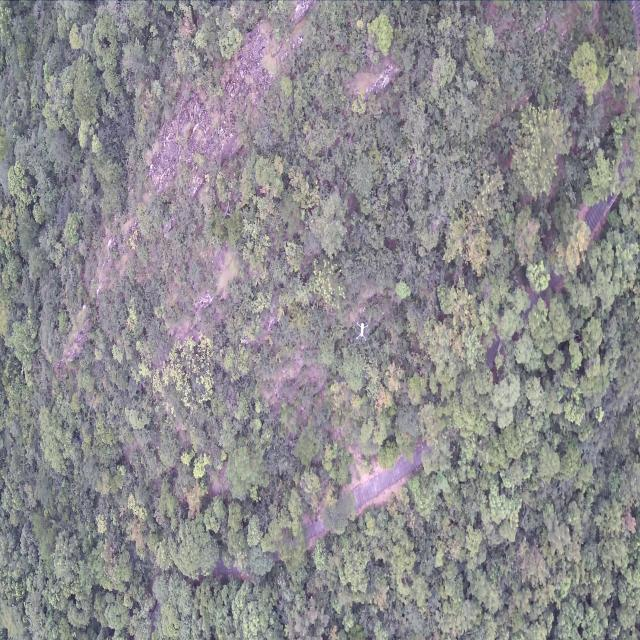drone: (356, 322, 368, 342)
